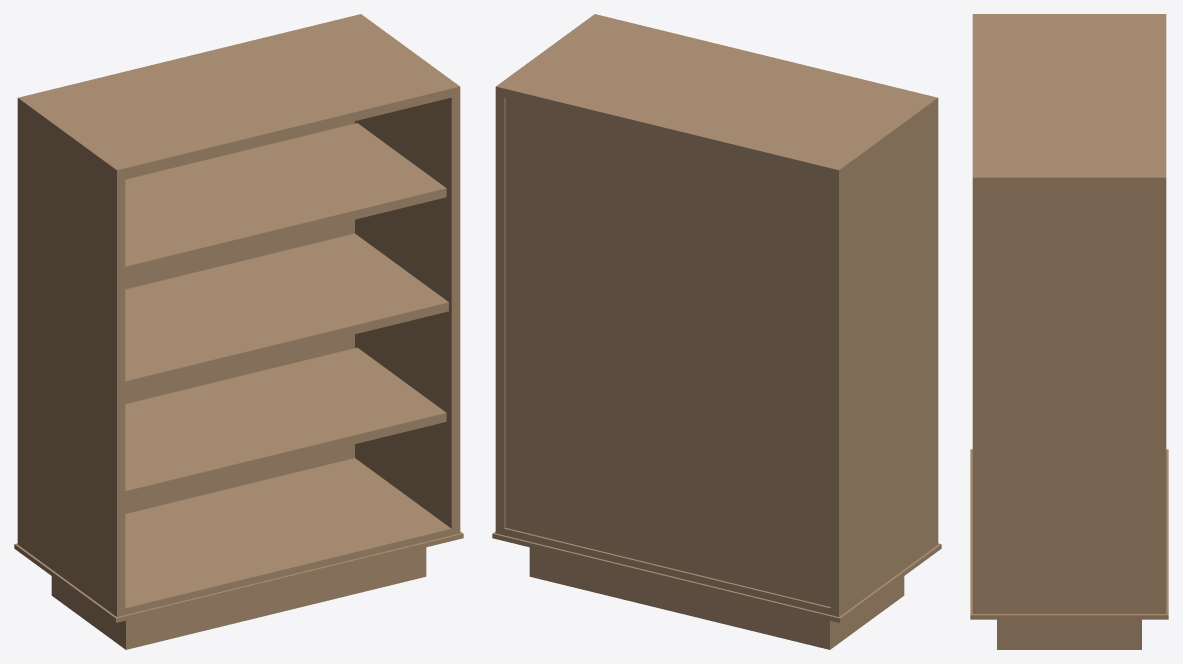
Rendered from casework_display.glb.
3 views of the same model, side by side, from view 1: azimuth 30°, elevation 25°; view 2: azimuth 150°, elevation 25°; view 3: azimuth 270°, elevation 25° (orthographic). The views are drawn at different scales.
Parts seen in each view (by area): view 1: ArchitecturalCasework; view 2: ArchitecturalCasework; view 3: ArchitecturalCasework.
Part boxes in pixels (x1,y1,x2,y2): ArchitecturalCasework: [14, 14, 463, 649]; ArchitecturalCasework: [492, 14, 941, 649]; ArchitecturalCasework: [970, 14, 1168, 649].
Size of the model in its own units: 0.81 by 1.1 by 0.41.
